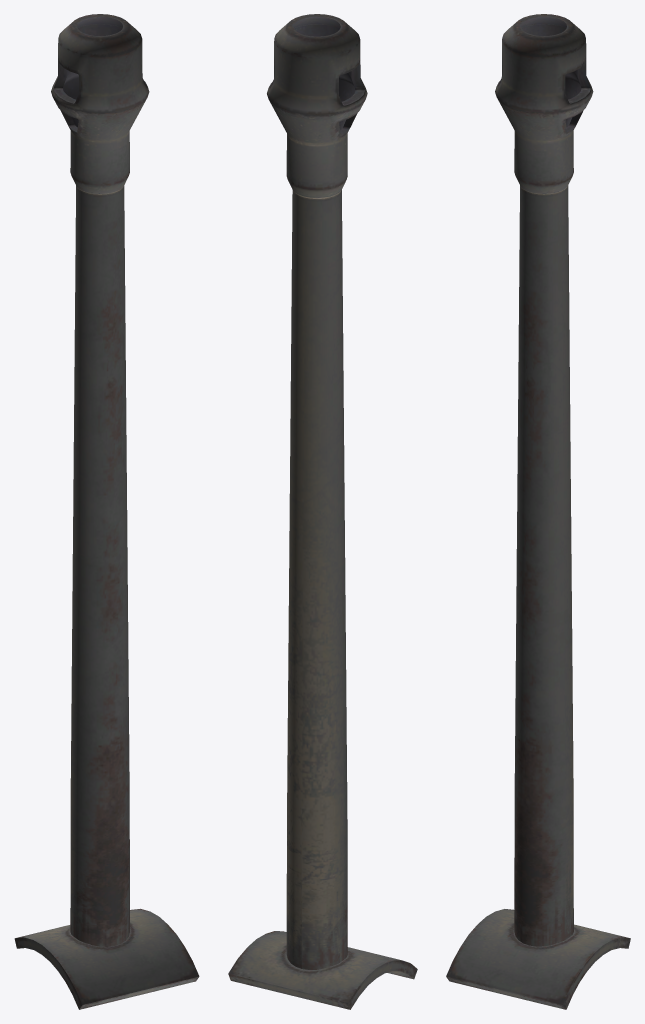
Rendered from Gun_01.glb.
3 views of the same model, side by side, from view 1: azimuth 30°, elevation 25°; view 2: azimuth 150°, elevation 25°; view 3: azimuth 330°, elevation 25° (orthographic). The views are drawn at different scales.
Parts seen in each view (by area): view 1: set_0_group_0; view 2: set_0_group_0; view 3: set_0_group_0.
Part boxes in pixels (x1,y1,x2,y2): set_0_group_0: (14,14,199,1009); set_0_group_0: (228,14,417,1009); set_0_group_0: (446,14,630,1009).
Size of the model in its own units: 0.3765 by 2.9 by 0.3797.
Materials: 1 (1 with a texture image).
